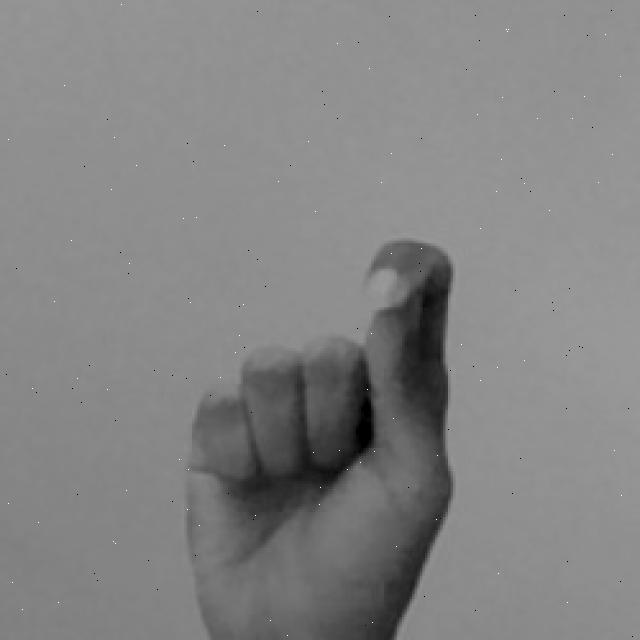T: (174, 232, 459, 640)
